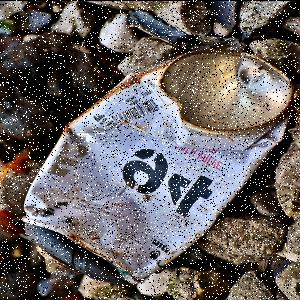Can: (22, 48, 296, 286)
